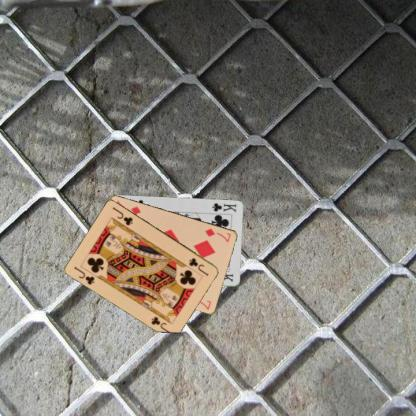7d: (203, 226, 232, 244)
Jc: (72, 263, 96, 286), (186, 255, 209, 277)
Kc: (210, 200, 237, 213)
